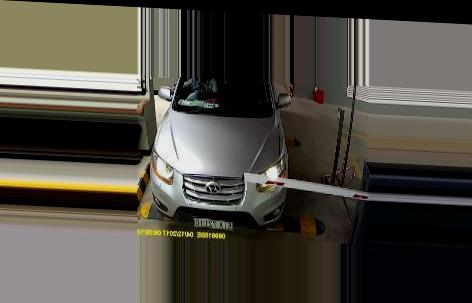License_Plate: (189, 216, 236, 232)
